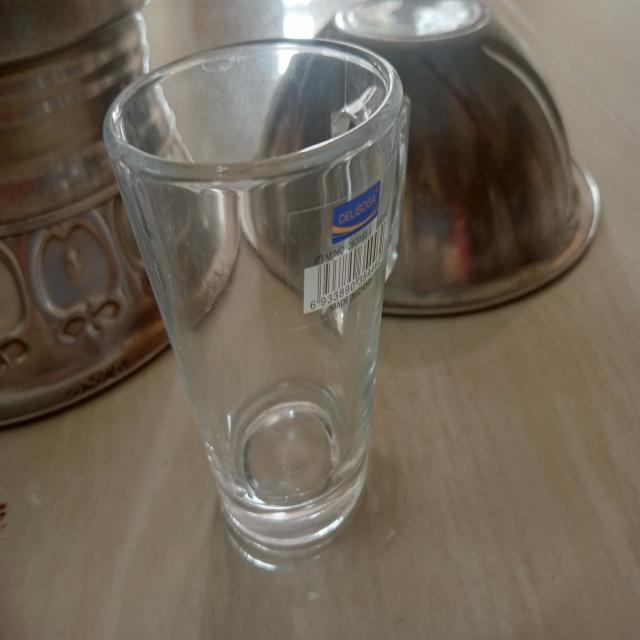glass-VX4N: (103, 37, 409, 558)
